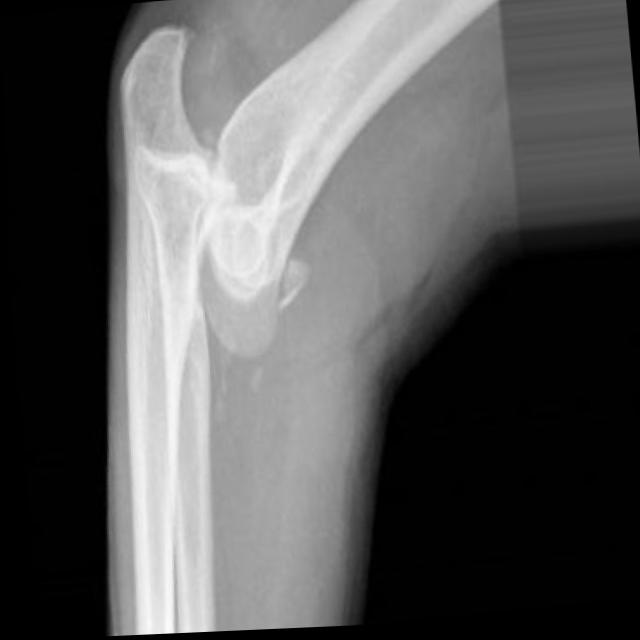fracture: (162, 18, 249, 169)
